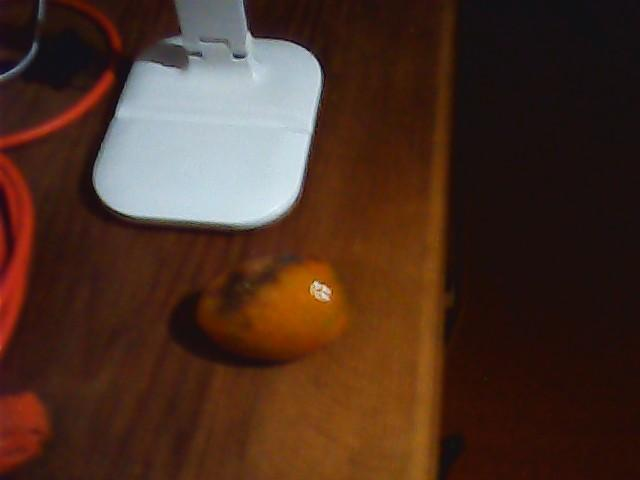defectuoso: (191, 251, 352, 366)
